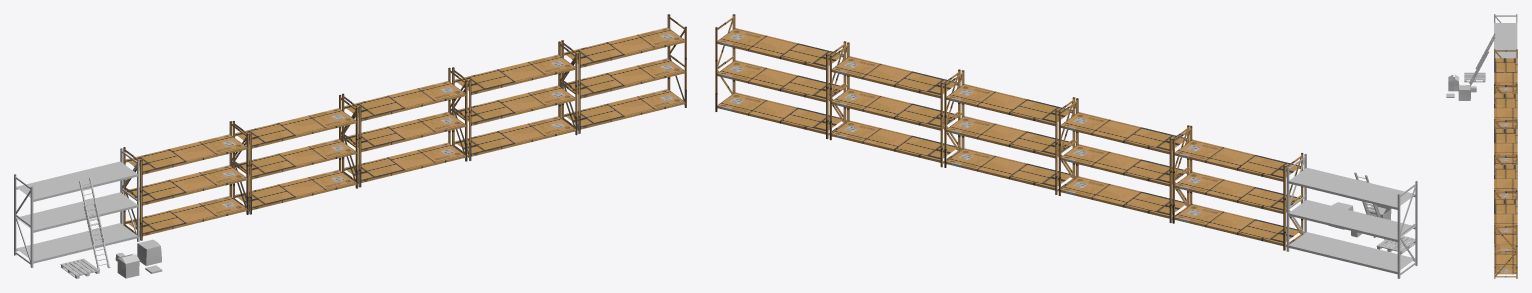
File: rak_tangga.obj
3 renders of one model, left to right at view 1: azimuth 30°, elevation 25°; view 2: azimuth 150°, elevation 25°; view 3: azimuth 270°, elevation 25°, orthographic. The views are drawn at different scales.
Visible parts, largest first — view 1: Shelf_WarehouseShelfMaterial_0, Shelf_WarehouseShelfMaterial_0.005, Shelf_WarehouseShelfMaterial_0.003, Shelf_WarehouseShelfMaterial_0.002, Shelf_WarehouseShelfMaterial_0.004, Shelf_WarehouseShelfMaterial_0.001, Ladder_WarehouseShelfMaterial_0, Box1_WarehouseShelfMaterial_0, Box4_WarehouseShelfMaterial_0, Pallet_WarehouseShelfMaterial_0; view 2: Shelf_WarehouseShelfMaterial_0, Shelf_WarehouseShelfMaterial_0.002, Shelf_WarehouseShelfMaterial_0.005, Shelf_WarehouseShelfMaterial_0.004, Shelf_WarehouseShelfMaterial_0.001, Shelf_WarehouseShelfMaterial_0.003; view 3: Shelf_WarehouseShelfMaterial_0.005, Shelf_WarehouseShelfMaterial_0.003, Shelf_WarehouseShelfMaterial_0, Shelf_WarehouseShelfMaterial_0.002, Shelf_WarehouseShelfMaterial_0.001, Shelf_WarehouseShelfMaterial_0.004, Ladder_WarehouseShelfMaterial_0, Pallet_WarehouseShelfMaterial_0, Box1_WarehouseShelfMaterial_0, Box4_WarehouseShelfMaterial_0.
Boxes of the visible parts, x1,y1,x2,y2 form: Shelf_WarehouseShelfMaterial_0: [14, 148, 139, 267]; Shelf_WarehouseShelfMaterial_0.005: [561, 14, 686, 133]; Shelf_WarehouseShelfMaterial_0.003: [232, 94, 358, 214]; Shelf_WarehouseShelfMaterial_0.002: [342, 67, 467, 187]; Shelf_WarehouseShelfMaterial_0.004: [452, 41, 577, 160]; Shelf_WarehouseShelfMaterial_0.001: [123, 121, 248, 240]; Ladder_WarehouseShelfMaterial_0: [79, 178, 110, 269]; Box1_WarehouseShelfMaterial_0: [137, 239, 161, 265]; Box4_WarehouseShelfMaterial_0: [117, 253, 139, 278]; Pallet_WarehouseShelfMaterial_0: [60, 258, 99, 278]; Shelf_WarehouseShelfMaterial_0: [1286, 153, 1417, 278]; Shelf_WarehouseShelfMaterial_0.002: [944, 70, 1075, 194]; Shelf_WarehouseShelfMaterial_0.005: [715, 14, 846, 139]; Shelf_WarehouseShelfMaterial_0.004: [829, 42, 960, 167]; Shelf_WarehouseShelfMaterial_0.001: [1172, 125, 1303, 250]; Shelf_WarehouseShelfMaterial_0.003: [1058, 98, 1189, 222]; Shelf_WarehouseShelfMaterial_0.005: [1494, 190, 1517, 278]; Shelf_WarehouseShelfMaterial_0.003: [1494, 84, 1517, 155]; Shelf_WarehouseShelfMaterial_0: [1494, 14, 1517, 84]; Shelf_WarehouseShelfMaterial_0.002: [1494, 119, 1517, 190]; Shelf_WarehouseShelfMaterial_0.001: [1494, 49, 1517, 119]; Shelf_WarehouseShelfMaterial_0.004: [1494, 155, 1517, 243]; Ladder_WarehouseShelfMaterial_0: [1469, 33, 1495, 86]; Pallet_WarehouseShelfMaterial_0: [1464, 72, 1485, 82]; Box1_WarehouseShelfMaterial_0: [1458, 85, 1470, 100]; Box4_WarehouseShelfMaterial_0: [1448, 75, 1459, 91].
Bounding box in the file's own units: 30.89 × 3.68 × 4.39.
